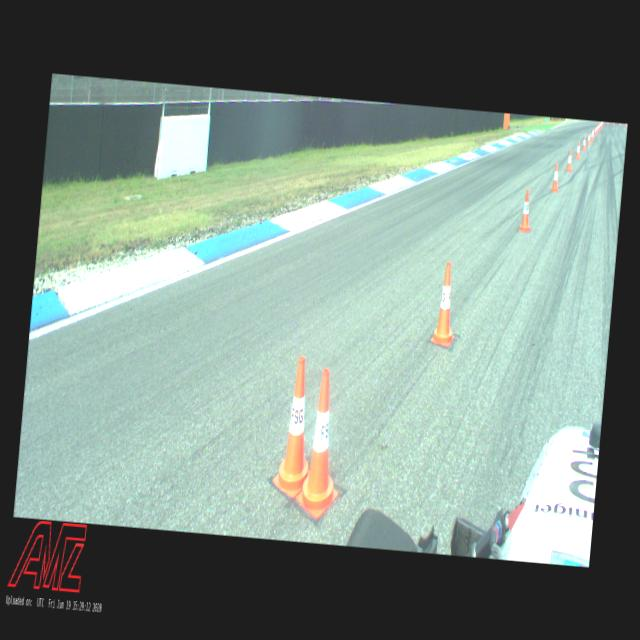orange_cone: (294, 366, 348, 520), (271, 354, 319, 498), (430, 260, 460, 346), (519, 189, 533, 231), (551, 162, 560, 192), (566, 149, 573, 171), (575, 141, 581, 159), (586, 132, 591, 145), (582, 136, 586, 150), (590, 130, 594, 140), (592, 127, 594, 138), (594, 125, 596, 134), (596, 124, 598, 132), (598, 123, 600, 130)
